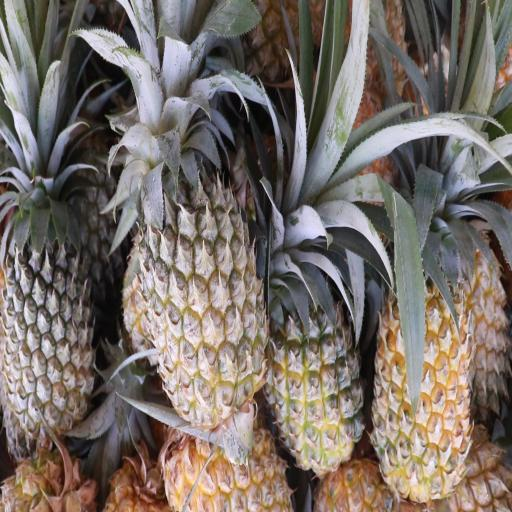------------------------------: (130, 114, 272, 454), (258, 250, 363, 483)
Pineapple - v8 v1: (369, 222, 476, 510)
